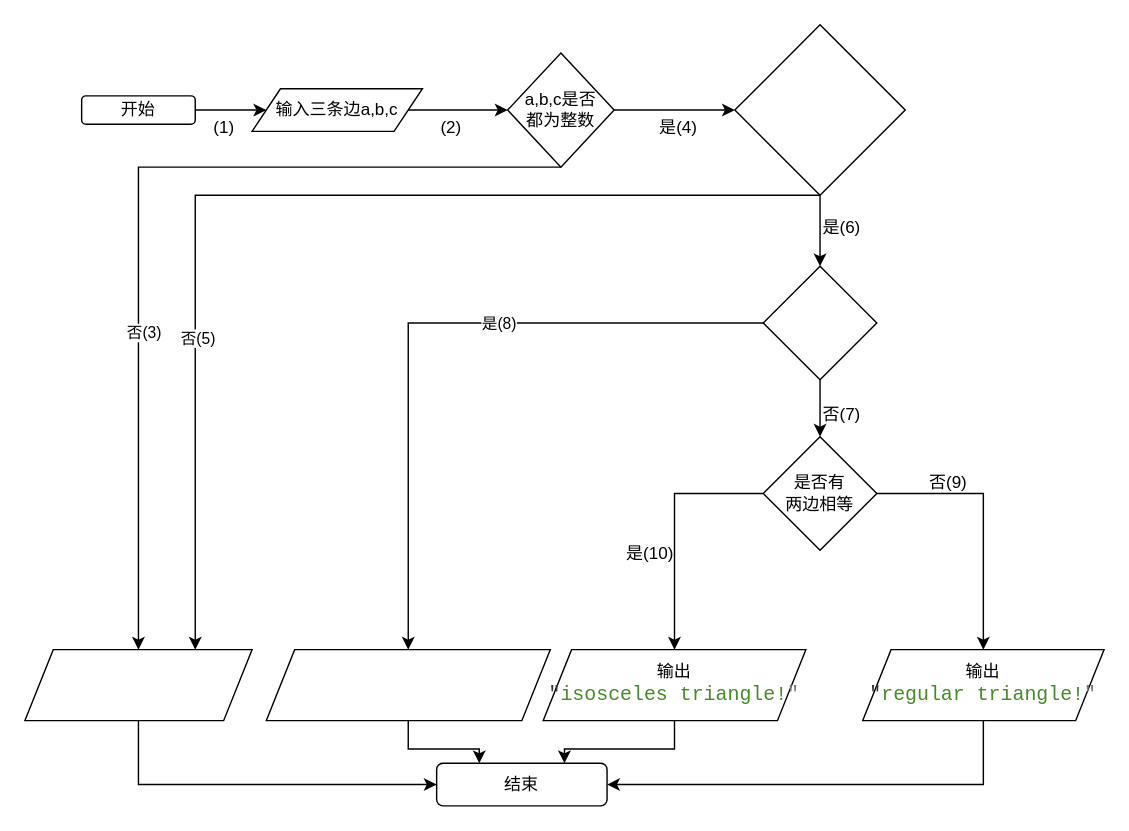
This 1129x831 diagram has some shape labels left out. The shapes that lost their labels are listed below. From the top down, each one's centre as x and y in pixels, then its label:
(x=819, y=109): a,b,c是否在数据 范围内且满足任意两边和大于第三边
(x=819, y=322): 是否三边相等
(x=137, y=684): 输出 " not a triangle! "
(x=407, y=684): 输出 " equilateral triangle! "
